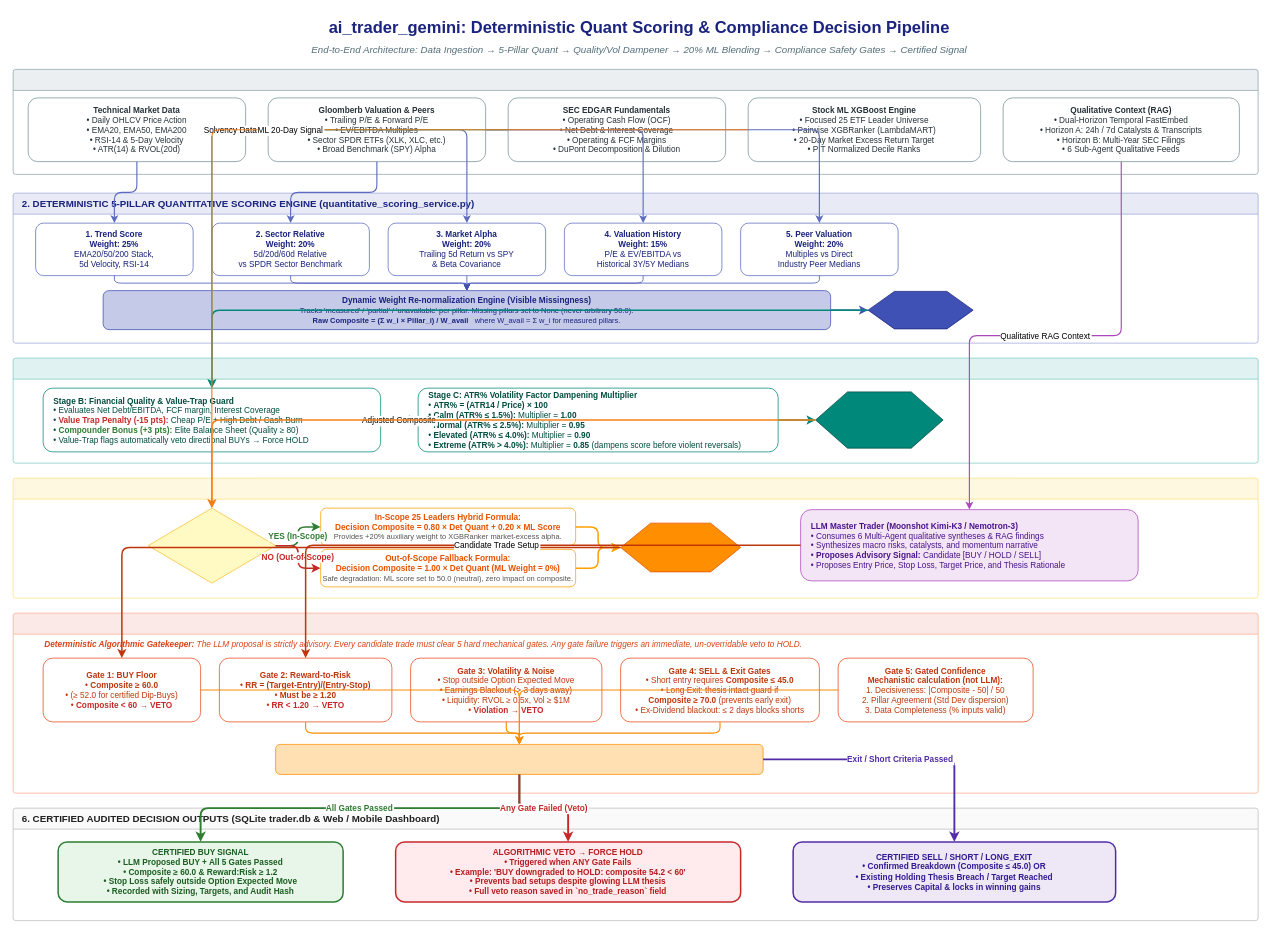
Image size: 1271x934. Some labels were removed from this diagram. Each missing label, with the box of its shape:
1. DATA INGESTION & FEATURE SOURCES: (12, 69, 1258, 174)
3. FINANCIAL QUALITY & VOLATILITY DAMPENING STAGES: (12, 357, 1258, 463)
4. ML HYBRID BLENDING & LLM MASTER TRADER PROPOSAL: (12, 477, 1258, 598)
5. DETERMINISTIC COMPLIANCE SAFETY GATES (normalize_master_trader_json): (12, 612, 1258, 793)
All Compliance Gates Evaluated Simultaneously: (275, 744, 763, 774)
Deterministic Quant Score (det_quant = Composite × vol_factor): (815, 391, 943, 448)
FINAL DECISION COMPOSITE (0.0 – 100.0): (620, 522, 741, 572)
Is Symbol In-Scope for Stock ML? (25 ETF Leaders): (147, 507, 276, 583)
Raw 5-Pillar Composite (0-100): (867, 291, 973, 329)
